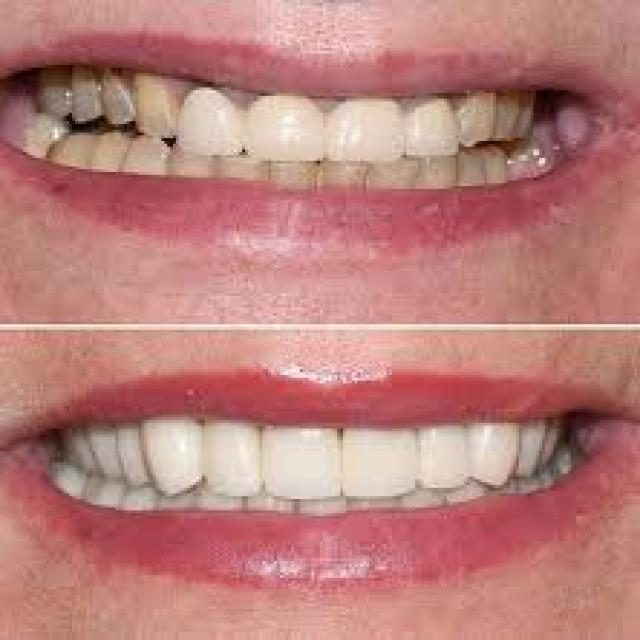tooth: (262, 409, 346, 502), (239, 81, 326, 160), (343, 414, 418, 499), (138, 409, 205, 499), (334, 82, 406, 164), (202, 409, 265, 502), (182, 79, 242, 155), (421, 417, 470, 496), (473, 412, 522, 491), (130, 70, 184, 141), (412, 90, 462, 158), (452, 90, 508, 147), (109, 414, 150, 485), (87, 418, 121, 480), (522, 415, 550, 482)
